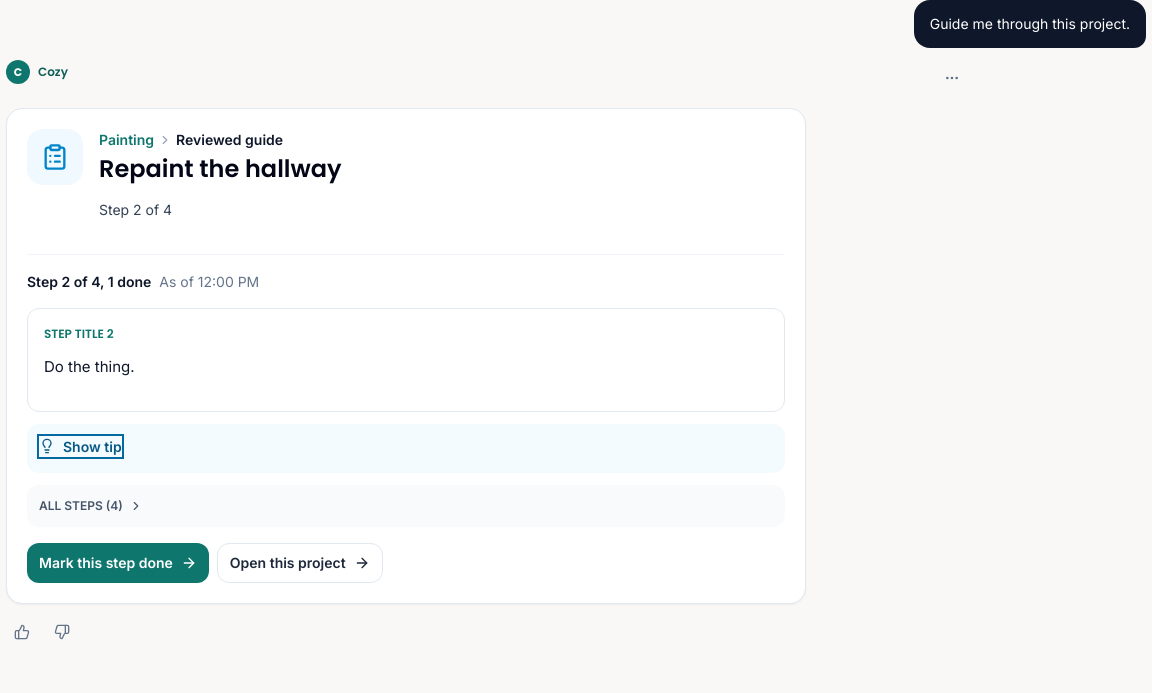
Test: focus when the guide updates in place › does not move when the guide is not the just-updated execution, or when nothing about the execution changed (opening the tip)
This screenshot has width=1152, height=693.
Click the button "Show tip".
click(80, 446)  # box left=39, top=436, right=122, bottom=457
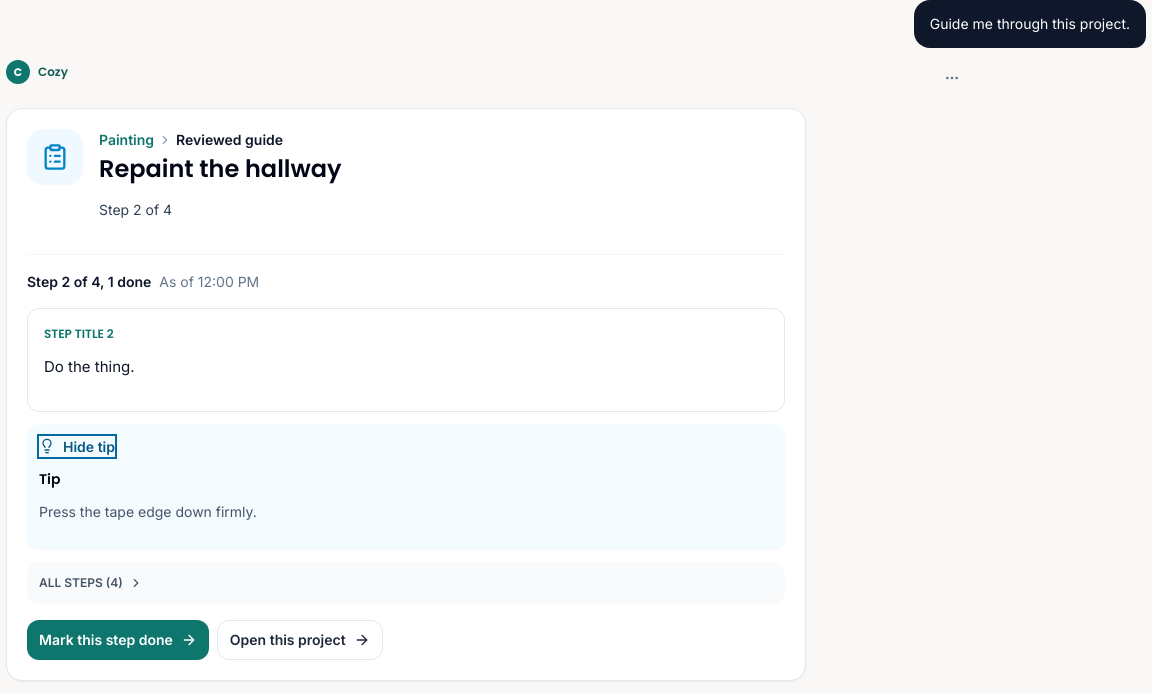
Check: the button "Hide tip" is expanded, box left=39, top=436, right=115, bottom=457
